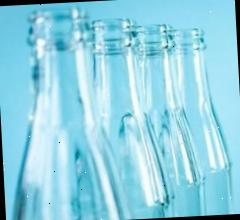glass: (2, 0, 235, 220)
